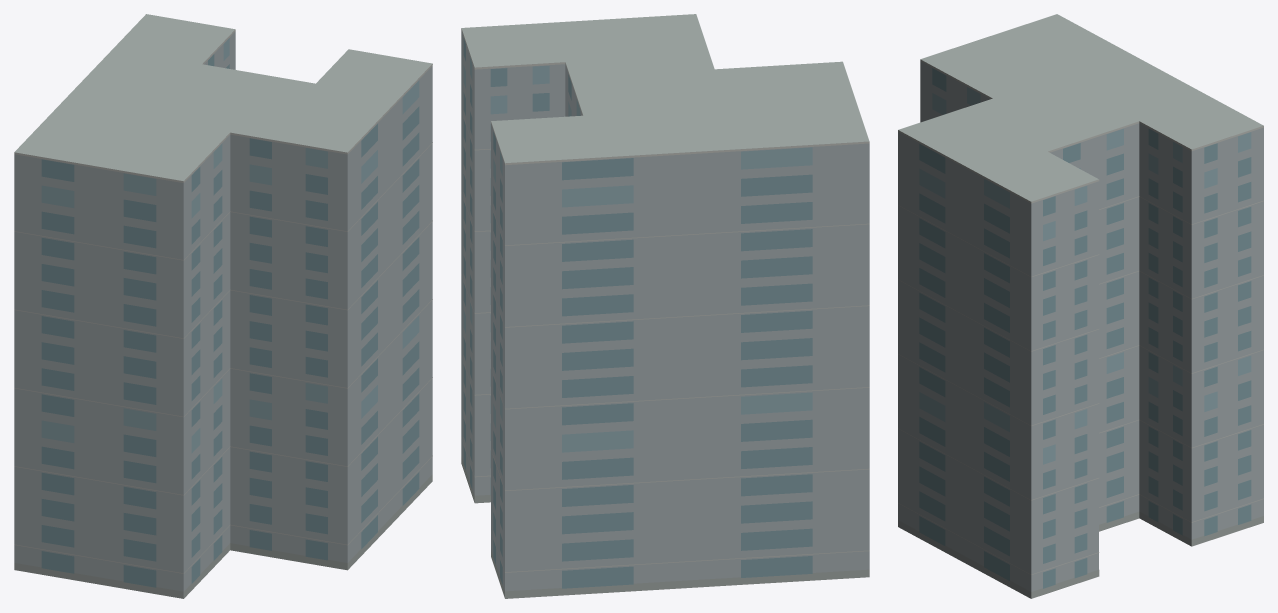
Rendered from residential-0de2c71a-e889-4621-bf9f-d4f465a4cf83.glb.
3 renders of one model, left to right at view 1: azimuth 30°, elevation 25°; view 2: azimuth 150°, elevation 25°; view 3: azimuth 270°, elevation 25°, orthographic. The views are drawn at different scales.
Parts seen in each view (by area): view 1: residential-0de2c71a-e889-4621-bf9f-d4f465a4cf83.tmp; view 2: residential-0de2c71a-e889-4621-bf9f-d4f465a4cf83.tmp; view 3: residential-0de2c71a-e889-4621-bf9f-d4f465a4cf83.tmp.
Part boxes in pixels (x1,y1,x2,y2): residential-0de2c71a-e889-4621-bf9f-d4f465a4cf83.tmp: (14, 14, 432, 598); residential-0de2c71a-e889-4621-bf9f-d4f465a4cf83.tmp: (461, 14, 869, 598); residential-0de2c71a-e889-4621-bf9f-d4f465a4cf83.tmp: (898, 14, 1263, 598).
Bounding box in the file's own units: 52.76 × 52 × 43.43.
